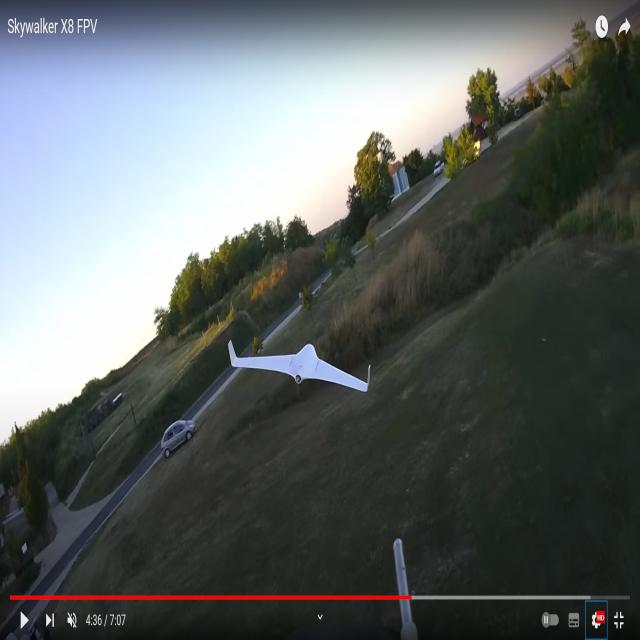iha: (229, 344, 363, 395)
